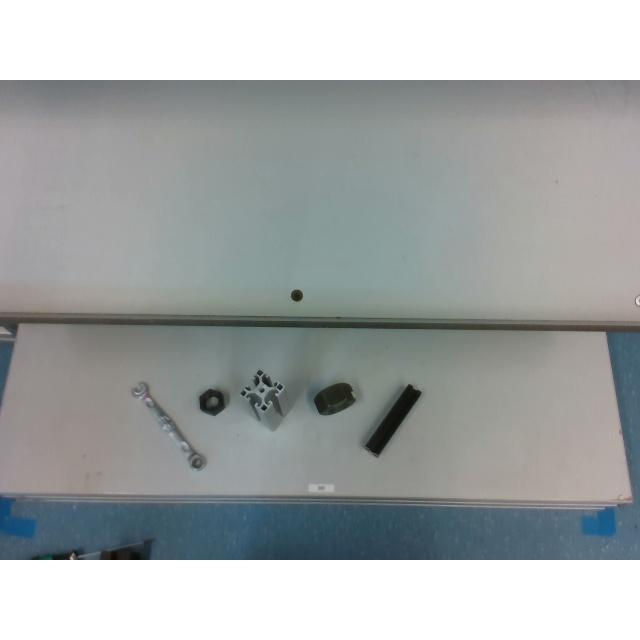F20_20_B: (364, 384, 420, 456)
M20: (199, 389, 225, 415)
M30: (314, 383, 354, 415)
S40_40_G: (240, 370, 284, 430)
Wrench: (130, 382, 222, 470)
